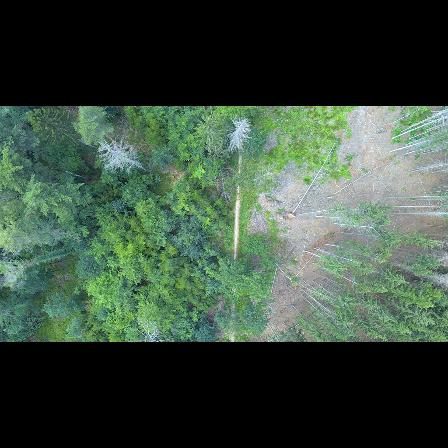Dead: (94, 138, 147, 175), (225, 116, 253, 158)
